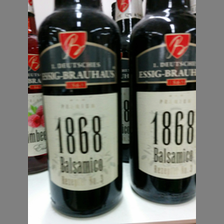vinegar: (38, 1, 124, 217), (129, 1, 197, 206)
